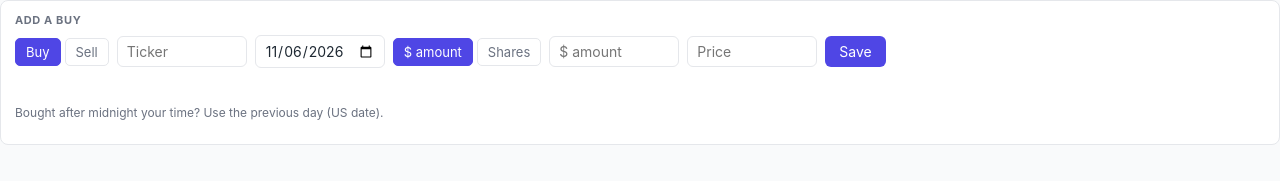
it: sell all fills the exact held shares and server errors are shown
Click the button "Sell" at (87, 52), box [64,38,109,66]
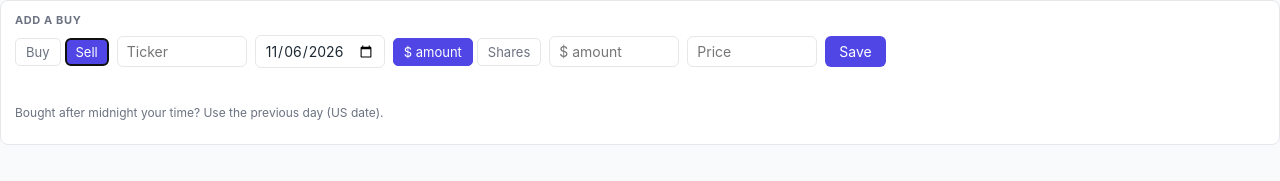
Type "NVDA" into the field labelled "Ticker" at (182, 52), box [117,36,247,67]
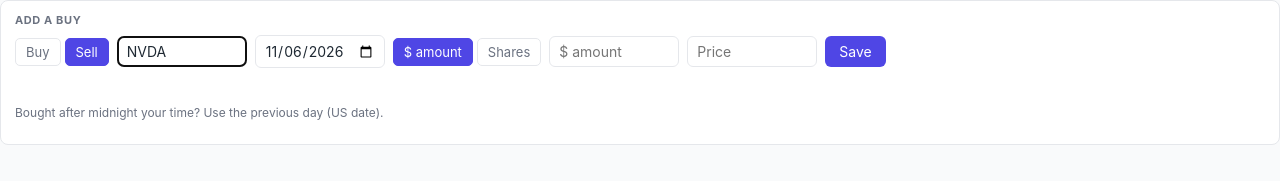
Press Tab
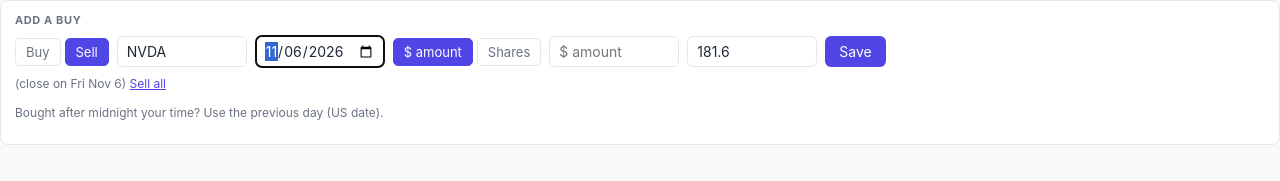
Click the button "Sell all" at (148, 84), box [130,76,166,91]
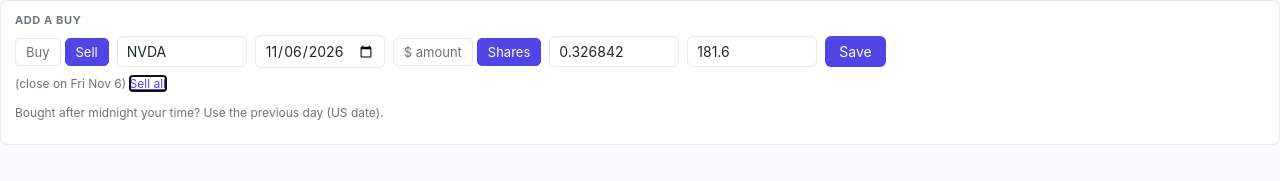
Check: the number field named "Price per share" holds "181.6", box [687,36,817,67]
Check: the number field named "Shares" holds "0.326842", box [549,36,679,67]
Click the button "Save" at (856, 52), box [825,36,886,67]
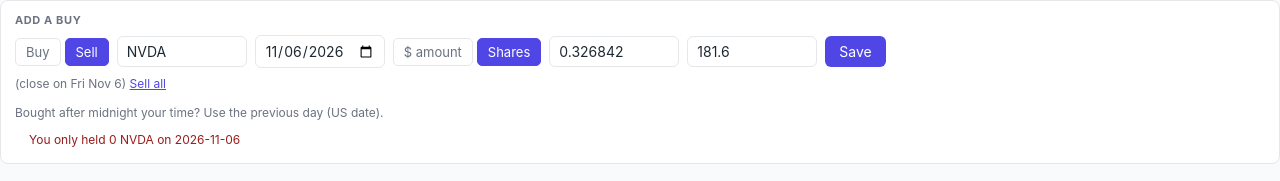
Check: the text "You only held 0 NVDA on 2026-11-06" is shown, box [29,132,240,147]
